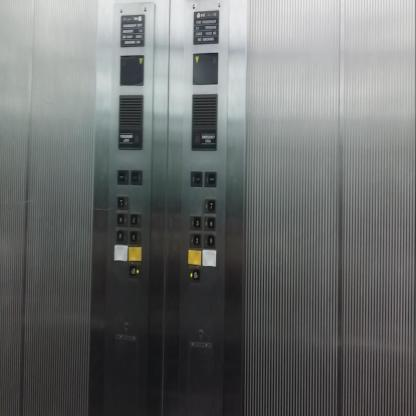2: (189, 233, 202, 248)
3: (189, 214, 202, 231)
5: (203, 233, 216, 247)
6: (202, 214, 216, 231)
7: (202, 198, 216, 213)
B1: (188, 266, 200, 282)
blur: (203, 170, 217, 187), (190, 170, 203, 187), (130, 169, 142, 185), (116, 170, 129, 184)
empty: (187, 248, 202, 266), (201, 249, 216, 267), (113, 244, 128, 262), (128, 245, 142, 263)
led: (192, 52, 218, 84), (119, 54, 144, 86)
unknown: (129, 262, 141, 278), (115, 229, 128, 243), (116, 195, 128, 210), (130, 212, 141, 228), (116, 212, 128, 226), (129, 230, 141, 244)
